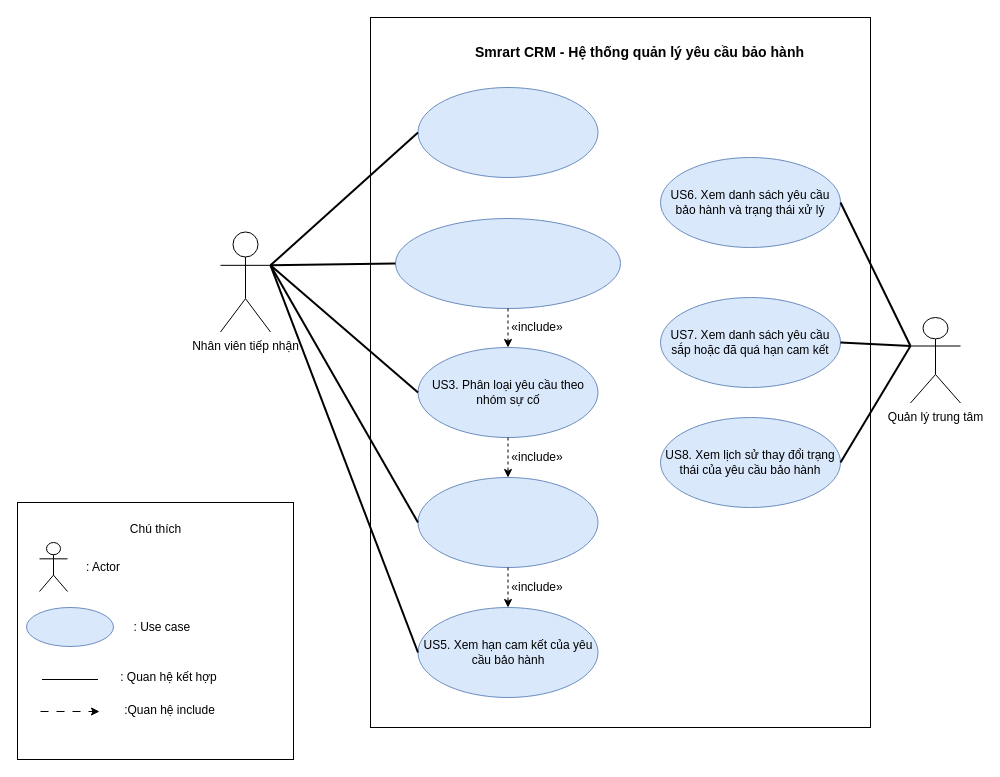
Image size: 1000x777. Some labels were removed from this diagram. The shapes that lost their labels are listed below. From the top down, each one's centre as x and y in pixels, then its label:
At point 507,132: "US1. Tra cứu khách hàng theo số điện thoại".
At point 507,263: "US2. Ghi nhận yêu cầu bảo hành mới (khách hàng, sản phẩm, mô tả lỗi)".
At point 507,522: "US4. Xác định mức độ ưu tiên của yêu cầu".
